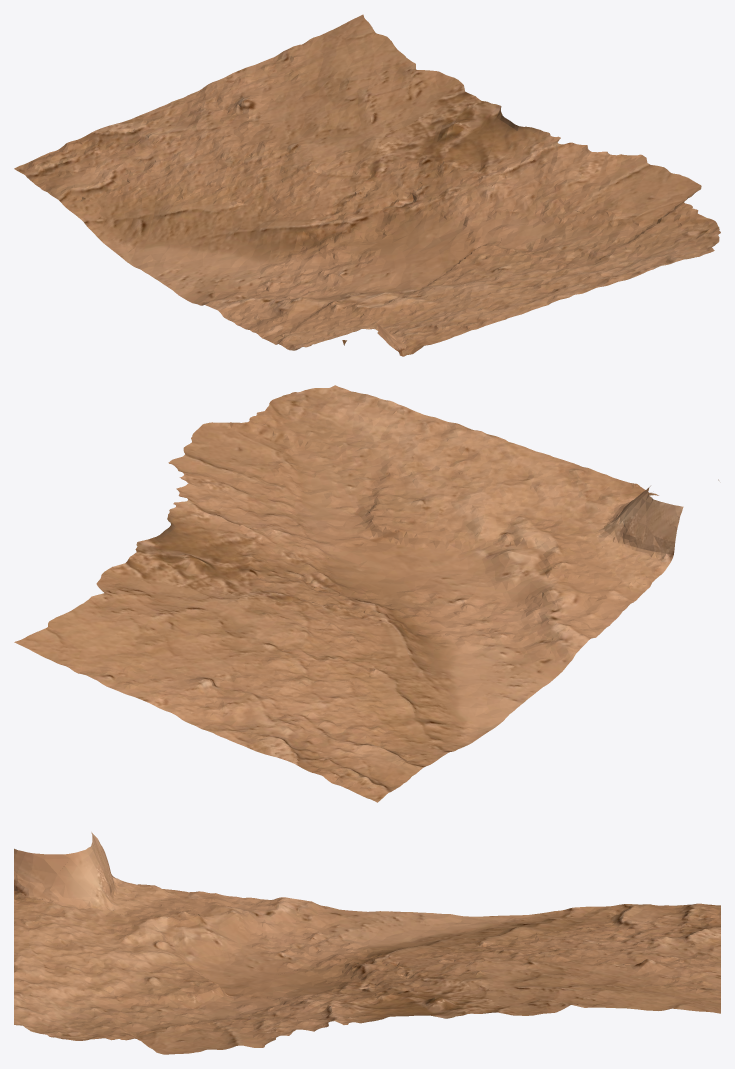
3 views of the same model, one above another, from view 1: azimuth 30°, elevation 25°; view 2: azimuth 150°, elevation 25°; view 3: azimuth 270°, elevation 25° (orthographic). The views are drawn at different scales.
Bounding box in the file's own units: 0.7812 × 0.1394 × 1.04.
2 materials, 2 textured.
